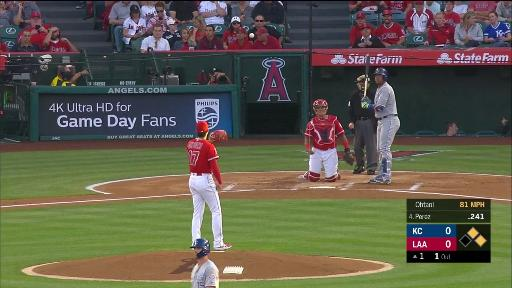pitcher: (186, 120, 235, 239)
